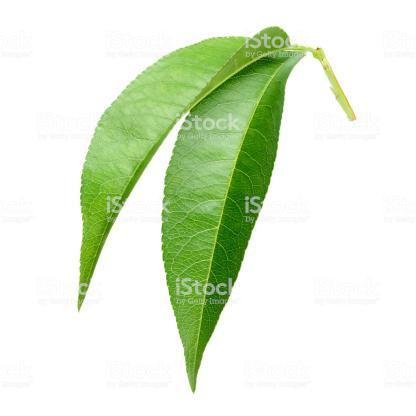Peach leaf: (76, 38, 275, 310), (161, 50, 311, 400)
